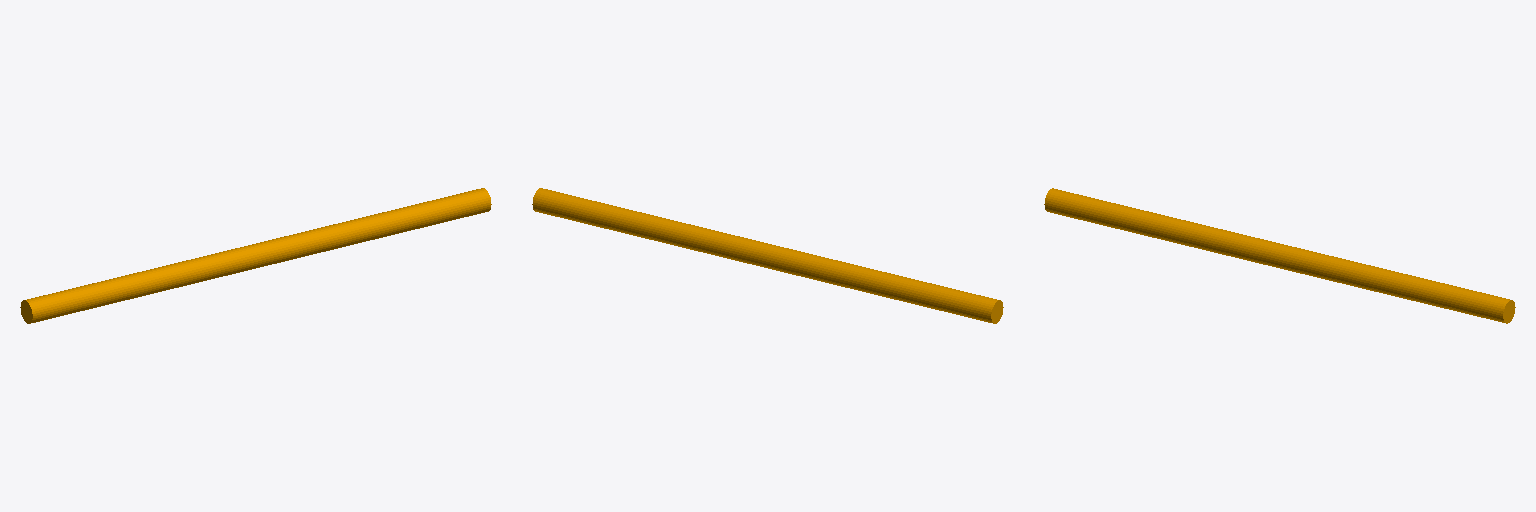
URDF robot description (Tube2):
<?xml version="1.0"?>
<robot name="Tube2">
  <link name="Tube2_link">
    <inertial>
      <origin xyz="0 0 0" /> 
      <mass value="0.1" />
      <inertia  ixx="1.0" ixy="0.0"  ixz="0.0"  iyy="1.0"  iyz="0.0"  izz="1.0" />
    </inertial>
    <visual>
      <origin xyz="0 0 0" rpy="0 1.57 0"/>
      <geometry>
        <cylinder radius="0.03" length="1.3"/>
      </geometry>
    </visual>
    <collision>
      <origin xyz="0 0 0" rpy="0 1.57 0"/>
      <geometry>
        <cylinder radius="0.03" length="1.3"/>
      </geometry>
    </collision>
  </link>
  <gazebo reference="Tube2_link">
    <material>PR2/Black</material>
    <turnGravityOff>true</turnGravityOff>
        <static>true</static>
  </gazebo>
</robot>

--- Facts derived from the render (not from the file) ---
3 views of the same robot in one strip: view 1: azimuth 30°, elevation 25°; view 2: azimuth 150°, elevation 25°; view 3: azimuth 330°, elevation 25° (orthographic).
Robot: Tube2 — 1 links, 0 joints (none); root link Tube2_link; default pose: all joints at 0.
Visible links, largest first — view 1: Tube2_link; view 2: Tube2_link; view 3: Tube2_link.
Link boxes in pixels (x1,y1,x2,y2): Tube2_link: [20, 188, 491, 323]; Tube2_link: [532, 188, 1003, 323]; Tube2_link: [1044, 188, 1515, 323].
Size in the robot's own frame: 1.3 by 0.06 by 0.061 metres.
Geometry: primitives only (box / cylinder / sphere), no mesh files.
